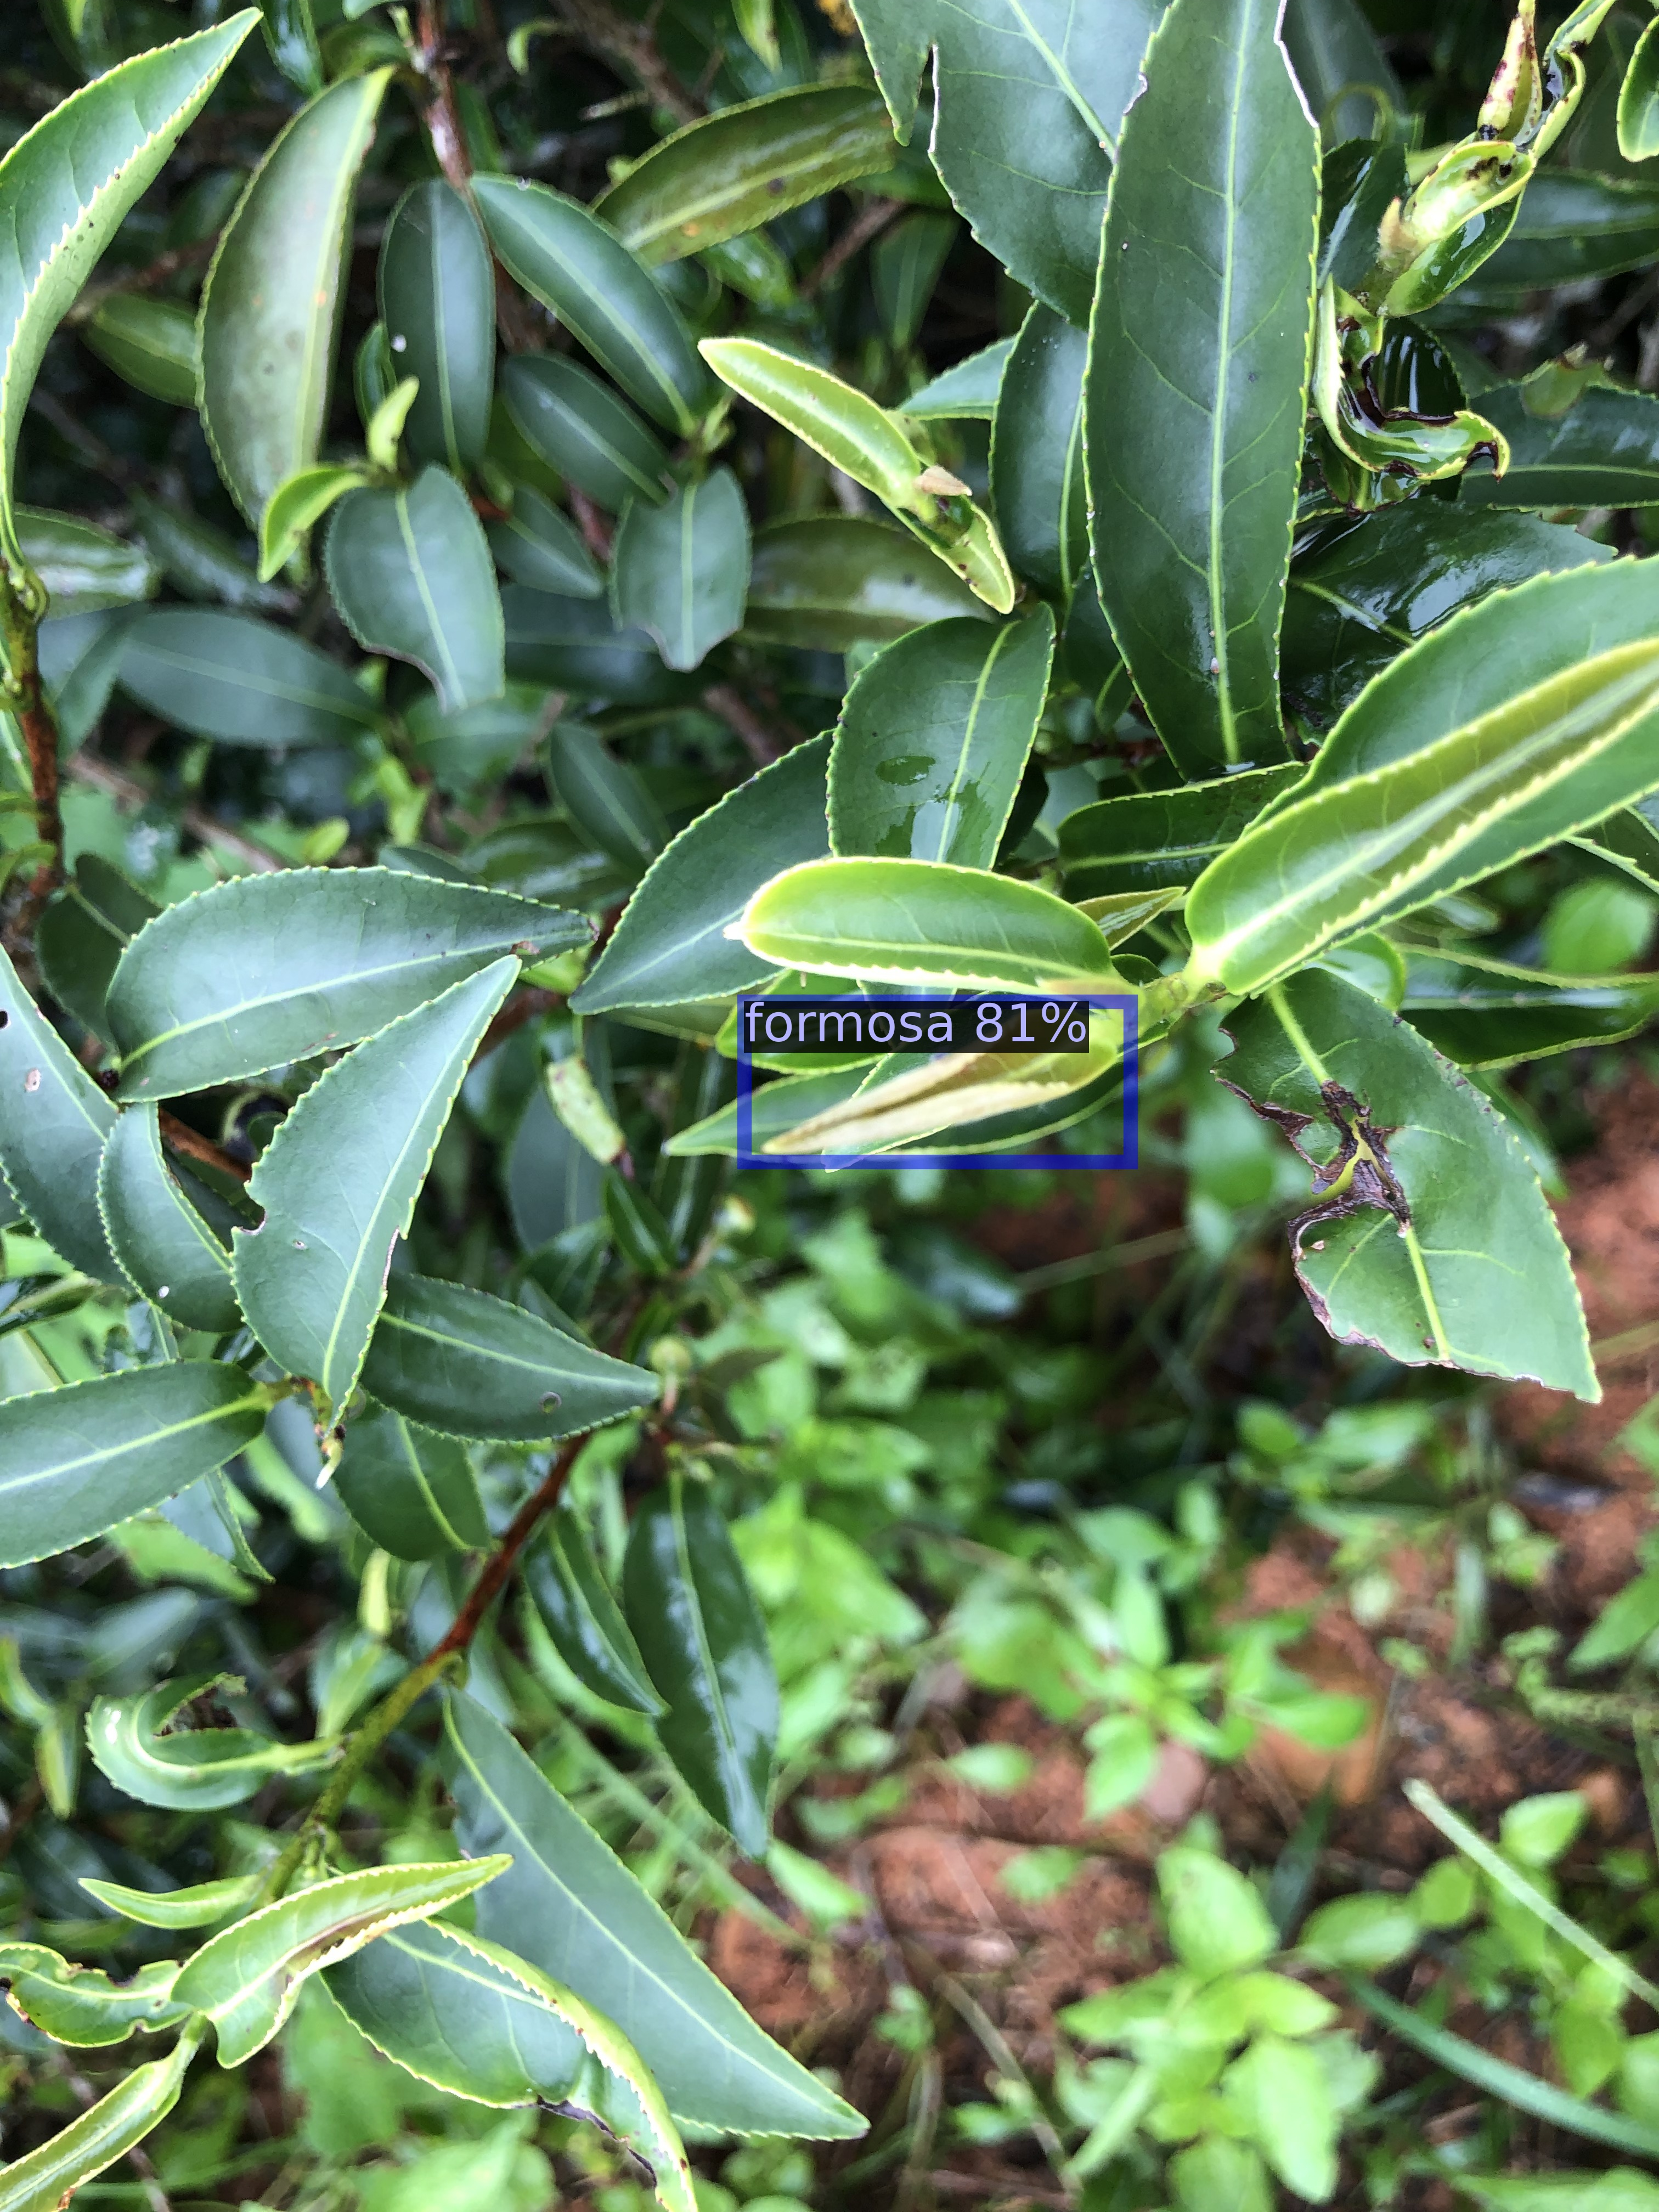formosa: (744, 1001, 1131, 1162)
